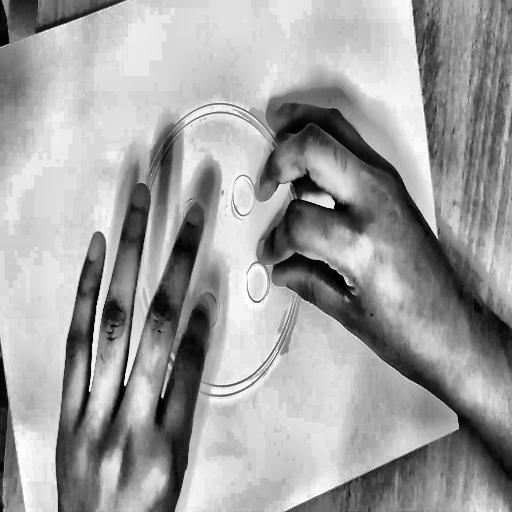bottom_right: (455, 420, 463, 434)
button: (105, 61, 346, 447)
